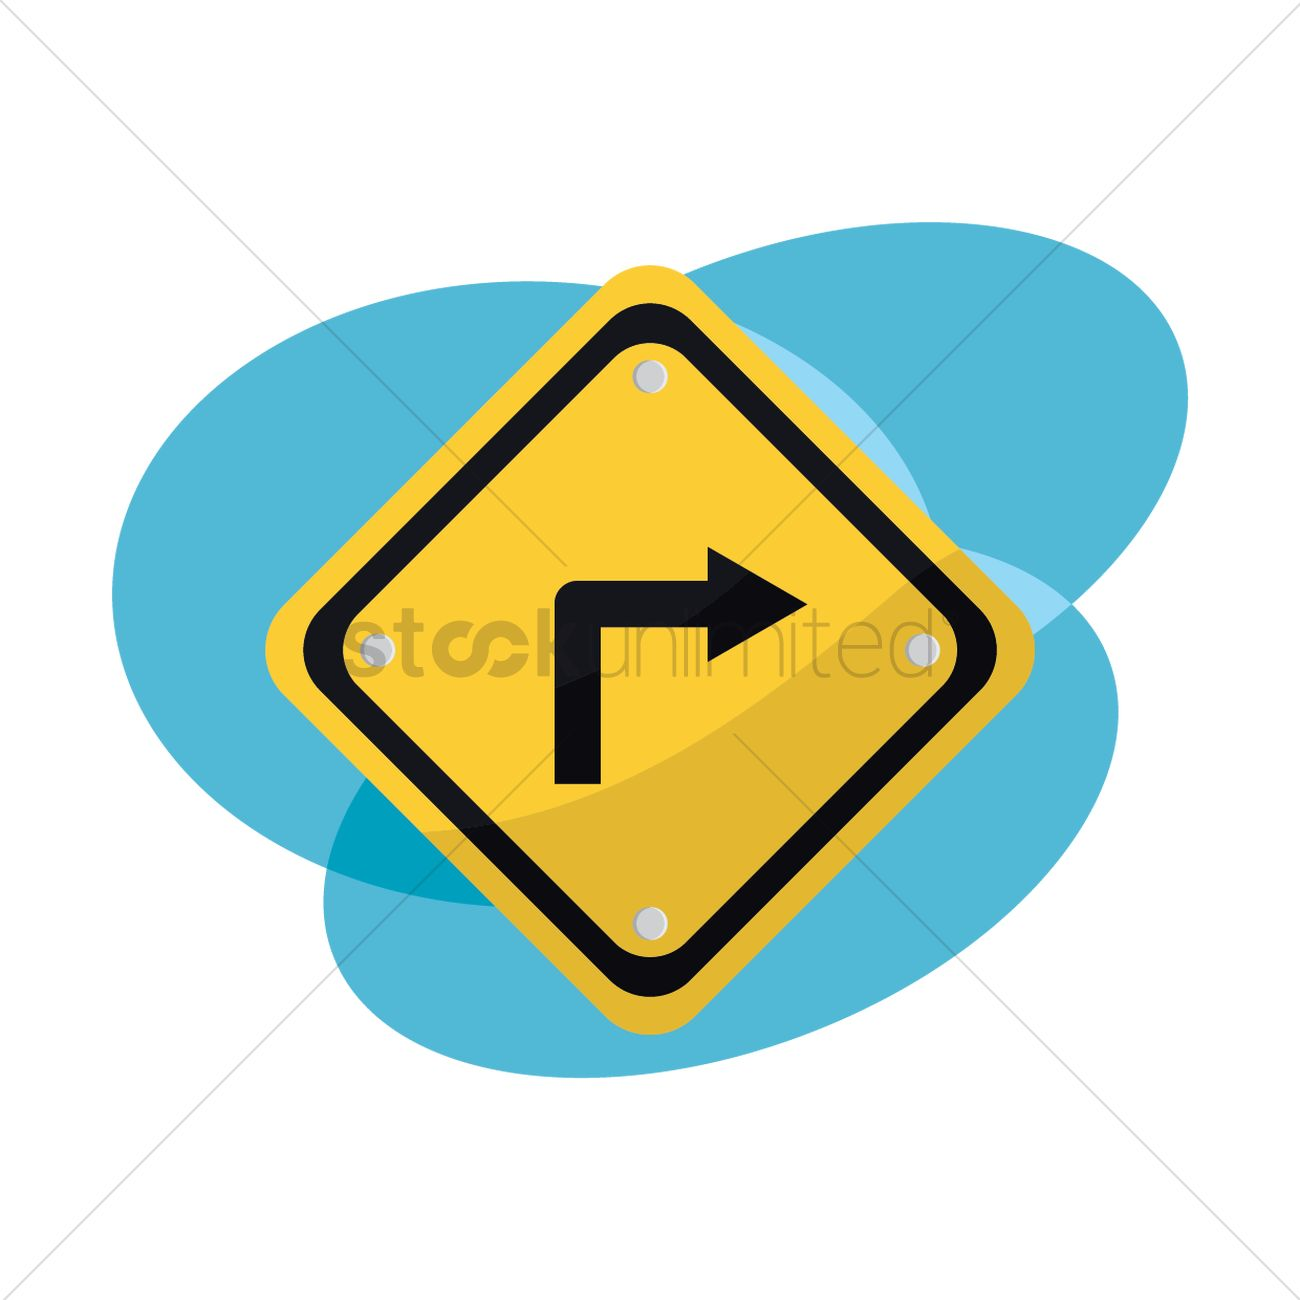right: (254, 254, 1046, 1048)
